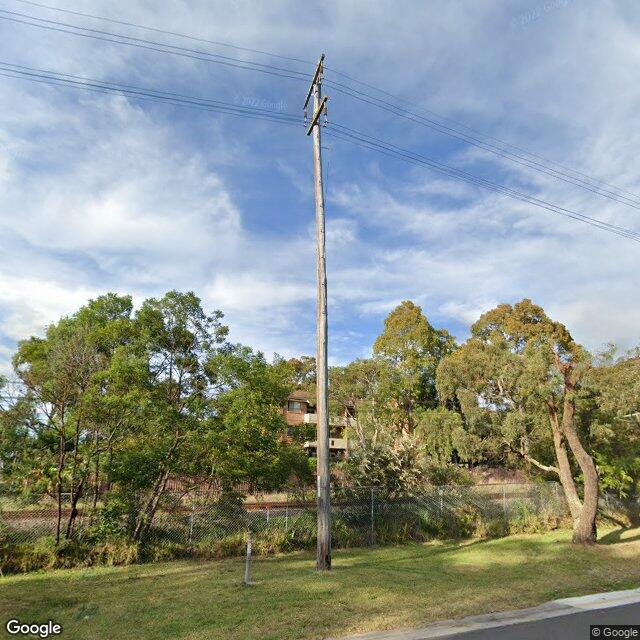HV-transmission: (303, 53, 328, 136)
crossarm: (304, 54, 326, 108), (306, 96, 327, 136)
timber-pole: (312, 84, 332, 569)
